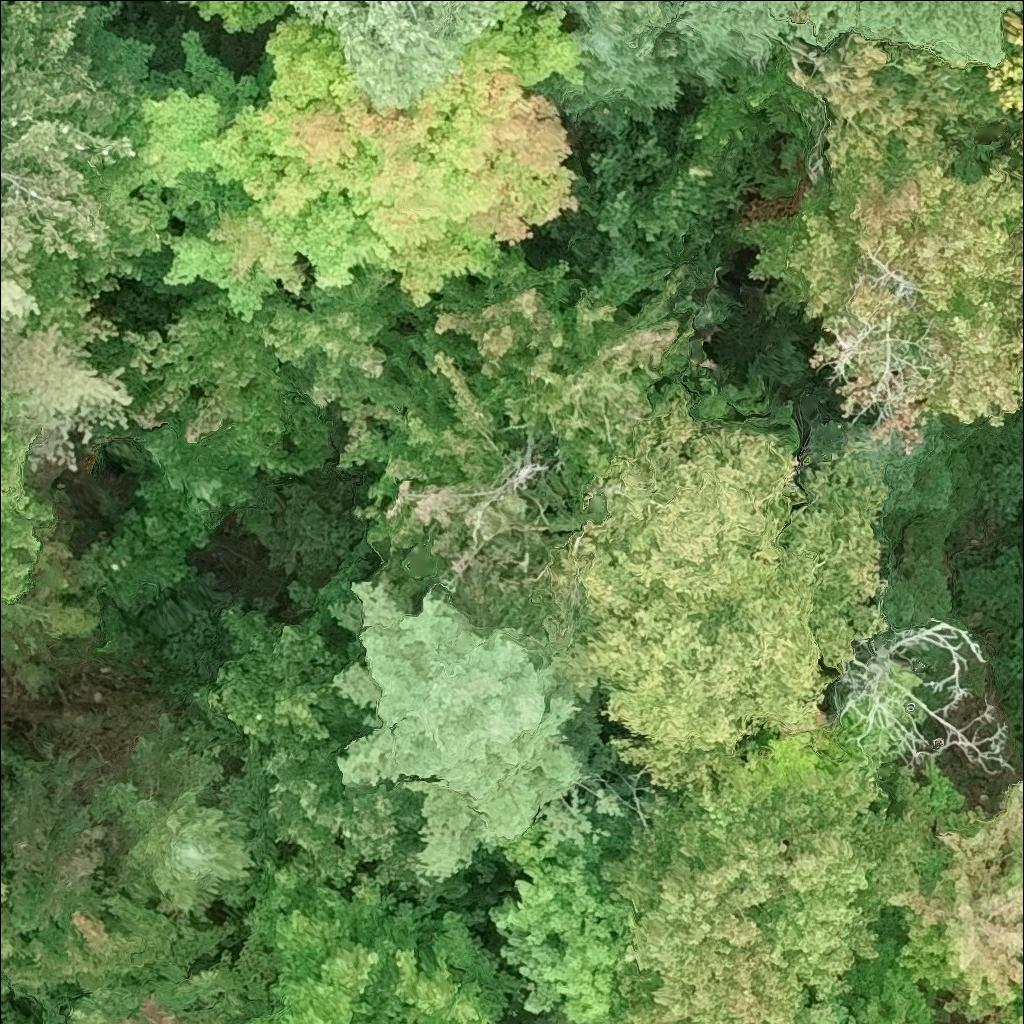crown: (116, 0, 588, 324), (308, 245, 692, 636), (542, 397, 890, 802), (189, 557, 496, 1016), (735, 38, 1023, 451), (594, 734, 937, 1023), (326, 578, 632, 885), (0, 740, 263, 1023), (0, 0, 196, 351), (119, 267, 403, 481), (842, 759, 1023, 1023), (100, 705, 260, 919), (669, 0, 1023, 89), (487, 823, 630, 1023), (263, 872, 436, 1023), (280, 0, 499, 104), (539, 9, 704, 137), (0, 320, 134, 475), (356, 909, 530, 1023), (0, 391, 53, 608), (151, 0, 288, 33), (554, 0, 680, 34), (990, 12, 1023, 120), (0, 264, 45, 326), (217, 1005, 348, 1023), (0, 860, 22, 966), (997, 989, 1023, 1023), (840, 1021, 851, 1023), (565, 1020, 570, 1023), (952, 1022, 959, 1023)
